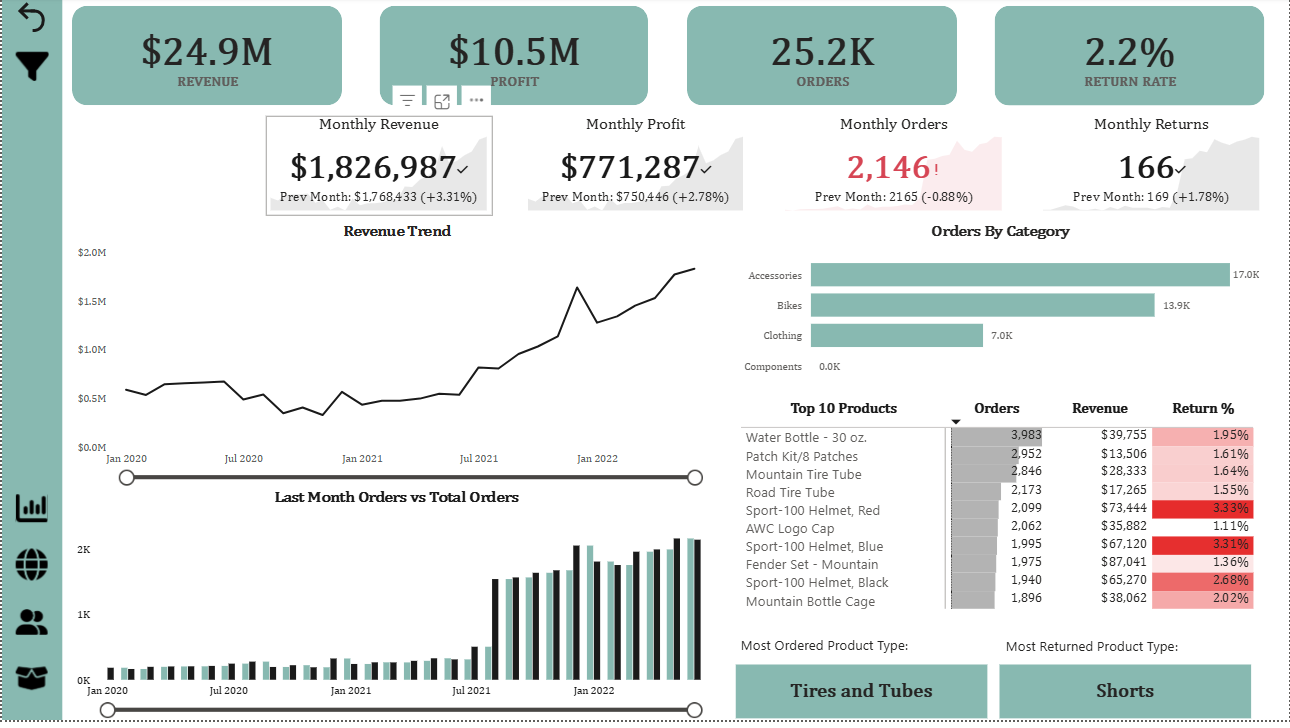

Layout of this report page (visuals, bound fields, positions):
{"tool":"powerbi","page":{"name":"Exec Dashboard","canvas":[1280,720],"ordinal":2},"visuals":[{"type":"group","id":"g1","title":"KPI Background","box":[69.7,8.7,1186.7,99.5],"z":0,"group":"g4"},{"type":"shape","box":[69.7,8.7,268.8,99],"z":0,"group":"g1"},{"type":"card","fields":{"Values":["Measure Table.Total Revenue"]},"box":[87.5,8.7,234.7,99],"z":0,"group":"g2"},{"type":"actionButton","title":"Product","box":[0,658.1,59.7,39.8],"z":0,"group":"g3"},{"type":"shape","title":"Left Nav","box":[0,0,60,720.3],"z":1000},{"type":"group","id":"g2","title":"KPI Values","box":[87.5,8.7,1152.5,99],"z":1000,"group":"g4"},{"type":"shape","box":[376.2,8.7,267.3,99],"z":1000,"group":"g1"},{"type":"card","fields":{"Values":["Measure Table.Gross Profit"]},"box":[393.4,8.7,234.7,99],"z":1000,"group":"g2"},{"type":"actionButton","title":"Customer","box":[0,601.7,59.7,39.8],"z":1000,"group":"g3"},{"type":"actionButton","box":[0,0,59.7,39.8],"z":2000},{"type":"shape","box":[681.3,8.7,268.8,99],"z":2000,"group":"g1"},{"type":"card","fields":{"Values":["Measure Table.Total Orders"]},"box":[699.4,8.7,234.7,99],"z":2000,"group":"g2"},{"type":"actionButton","title":"Map","box":[0,545.3,59.7,39.8],"z":2000,"group":"g3"},{"type":"shape","box":[987.8,8.7,268.6,99.5],"z":3000,"group":"g1"},{"type":"card","fields":{"Values":["Measure Table.Return Rate"]},"box":[1005.3,8.7,234.7,99],"z":3000,"group":"g2"},{"type":"group","id":"g3","title":"Nav Buttons","box":[0,488.9,59.7,209],"z":3000},{"type":"actionButton","title":"Dashboard","box":[0,488.9,59.7,39.8],"z":3000,"group":"g3"},{"type":"group","id":"g4","title":"KPIs","box":[69.7,8.7,1186.7,99.5],"z":4000},{"type":"actionButton","box":[0,48.5,59.7,41.1],"z":5000},{"type":"lineChart","title":"Revenue Trend","fields":{"Y":["Measure Table.Total Revenue"],"Category":["Calendar Lookup.Year","Calendar Lookup.Start of Quarter","Calendar Lookup.Start of Month","Calendar Lookup.Start of Week.Variation.Date Hierarchy.Year","Calendar Lookup.Start of Week.Variation.Date Hierarchy.Quarter","Calendar Lookup.Start of Week.Variation.Date Hierarchy.Month","Calendar Lookup.Start of Week.Variation.Date Hierarchy.Day"]},"box":[69.7,223.9,645.6,265],"z":6000},{"type":"kpi","title":"Monthly Revenue","fields":{"Indicator":["Measure Table.Total Revenue"],"TrendLine":["Calendar Lookup.Start of Month"],"Goal":["Measure Table.Previous Month Revenue"]},"box":[262.5,117.9,225.2,99.5],"z":7000},{"type":"kpi","title":"Monthly Orders","fields":{"TrendLine":["Calendar Lookup.Start of Month"],"Indicator":["Measure Table.Total Orders"],"Goal":["Measure Table.Previous Month Orders"]},"box":[775,117.9,225.2,99.5],"z":8000},{"type":"kpi","title":"Monthly Returns","fields":{"TrendLine":["Calendar Lookup.Start of Month"],"Indicator":["Measure Table.Total Returns"],"Goal":["Measure Table.Previous Month Returns"]},"box":[1031.2,117.9,225.2,99.5],"z":9000},{"type":"kpi","title":"Monthly Profit","fields":{"TrendLine":["Calendar Lookup.Start of Month"],"Indicator":["Measure Table.Gross Profit"],"Goal":["Measure Table.Previous Month Profit"]},"box":[518.7,117.9,223.9,99.5],"z":10000},{"type":"clusteredBarChart","title":"Orders By Category","fields":{"Category":["Product Categories Lookup.CategoryName"],"Y":["Measure Table.Total Orders"]},"box":[730.2,223.9,526.2,172.9],"z":11000},{"type":"pivotTable","fields":{"Rows":["Product Lookup.ProductName"],"Values":["Measure Table.Total Orders","Measure Table.Total Revenue","Measure Table.Return Rate"]},"box":[730.2,396.8,526.2,222.7],"z":12000},{"type":"card","title":"Most Ordered Product Type","fields":{"Values":["Min(Product Subcategories Lookup.SubcategoryName)"]},"box":[730.2,664,250,53.5],"z":13000},{"type":"textbox","box":[730.2,630.7,209,32.3],"z":14000},{"type":"card","title":"Most Ordered Product Type","fields":{"Values":["Min(Product Subcategories Lookup.SubcategoryName)"]},"box":[992.7,664.3,250,53.5],"z":15000},{"type":"textbox","box":[993.9,631.9,212.7,31.1],"z":16000},{"type":"clusteredColumnChart","title":"Last Month Orders vs Total Orders","fields":{"Category":["Calendar Lookup.Start of Month"],"Y":["Measure Table.Previous Month Orders","Measure Table.Total Orders"]},"box":[68.4,488.9,646.9,231.4],"z":18000}]}

Visuals, with their boxes on the page's 1280x720 design canvas (x1, y1, x2, y2). These are canvas units, not pixel positions in the 1290x728 screenshot, which may show the page scaled, cropped or inside an application window:
"KPI Background" group: [70,9,1256,108]
shape: [70,9,338,108]
card - Measure Table.Total Revenue: [88,9,322,108]
"Product" actionButton: [0,658,60,698]
"Left Nav" shape: [0,0,60,720]
"KPI Values" group: [88,9,1240,108]
shape: [376,9,644,108]
card - Measure Table.Gross Profit: [393,9,628,108]
"Customer" actionButton: [0,602,60,642]
actionButton: [0,0,60,40]
shape: [681,9,950,108]
card - Measure Table.Total Orders: [699,9,934,108]
"Map" actionButton: [0,545,60,585]
shape: [988,9,1256,108]
card - Measure Table.Return Rate: [1005,9,1240,108]
"Nav Buttons" group: [0,489,60,698]
"Dashboard" actionButton: [0,489,60,529]
"KPIs" group: [70,9,1256,108]
actionButton: [0,48,60,90]
"Revenue Trend" lineChart: [70,224,715,489]
"Monthly Revenue" kpi: [262,118,488,217]
"Monthly Orders" kpi: [775,118,1000,217]
"Monthly Returns" kpi: [1031,118,1256,217]
"Monthly Profit" kpi: [519,118,743,217]
"Orders By Category" clusteredBarChart: [730,224,1256,397]
pivotTable - Product Lookup.ProductName x Measure Table.Total Orders: [730,397,1256,620]
"Most Ordered Product Type" card: [730,664,980,718]
textbox: [730,631,939,663]
"Most Ordered Product Type" card: [993,664,1243,718]
textbox: [994,632,1207,663]
"Last Month Orders vs Total Orders" clusteredColumnChart: [68,489,715,720]
